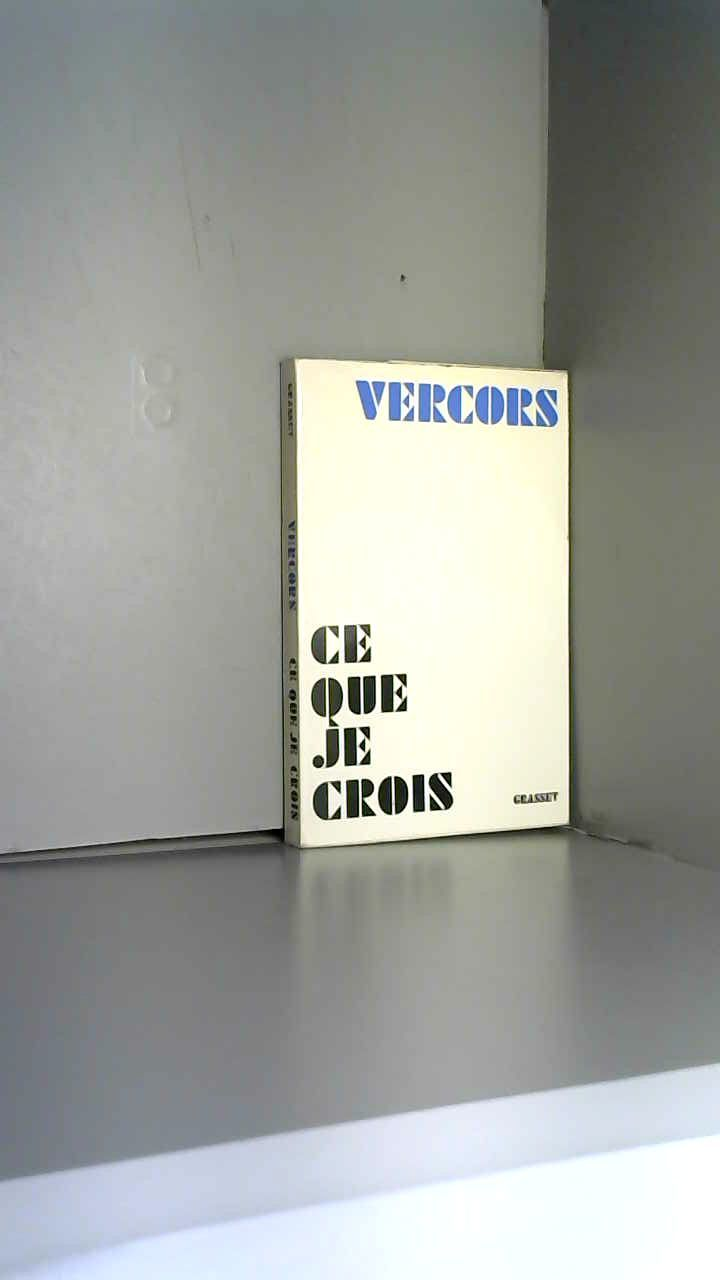book: (250, 330, 717, 929)
